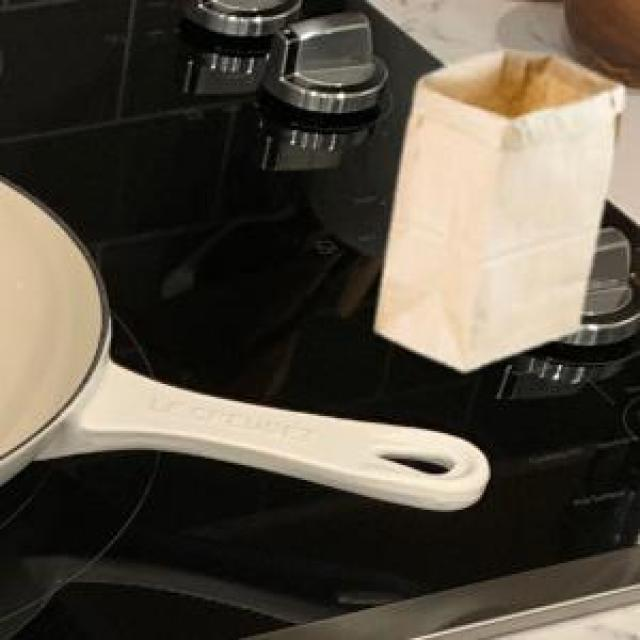paper: (371, 47, 619, 367)
